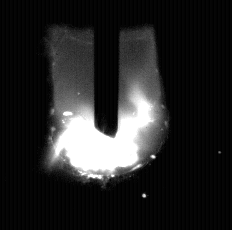arame: (95, 0, 120, 138)
poca: (52, 0, 166, 230)
